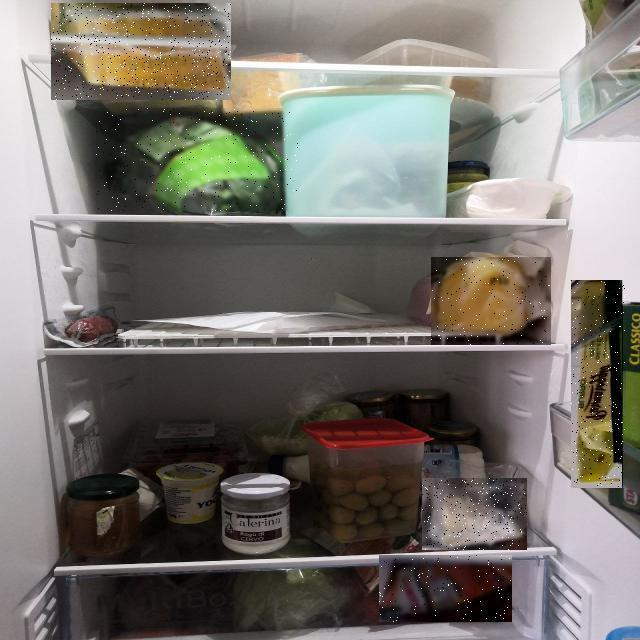Butter: (572, 280, 626, 488)
Carrot: (379, 555, 512, 622)
Cheese: (51, 3, 231, 100), (431, 257, 551, 345), (422, 478, 527, 550)
Spinach: (97, 108, 301, 211)
